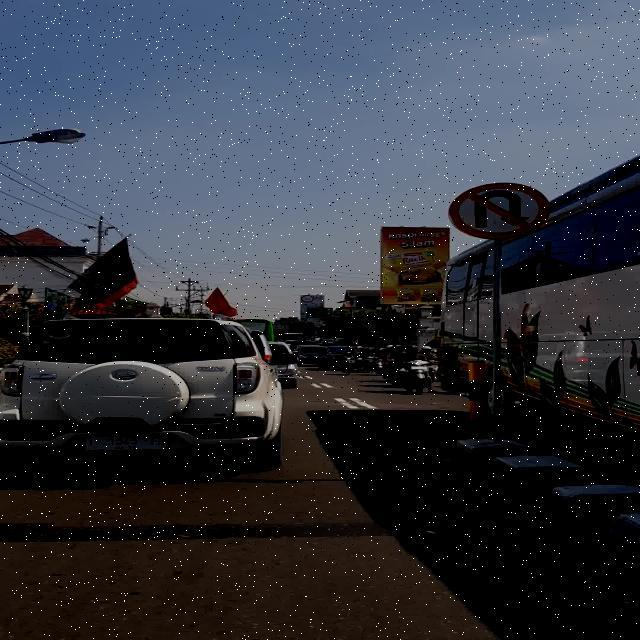Dilarang Putar Balik: (449, 182, 550, 239)
